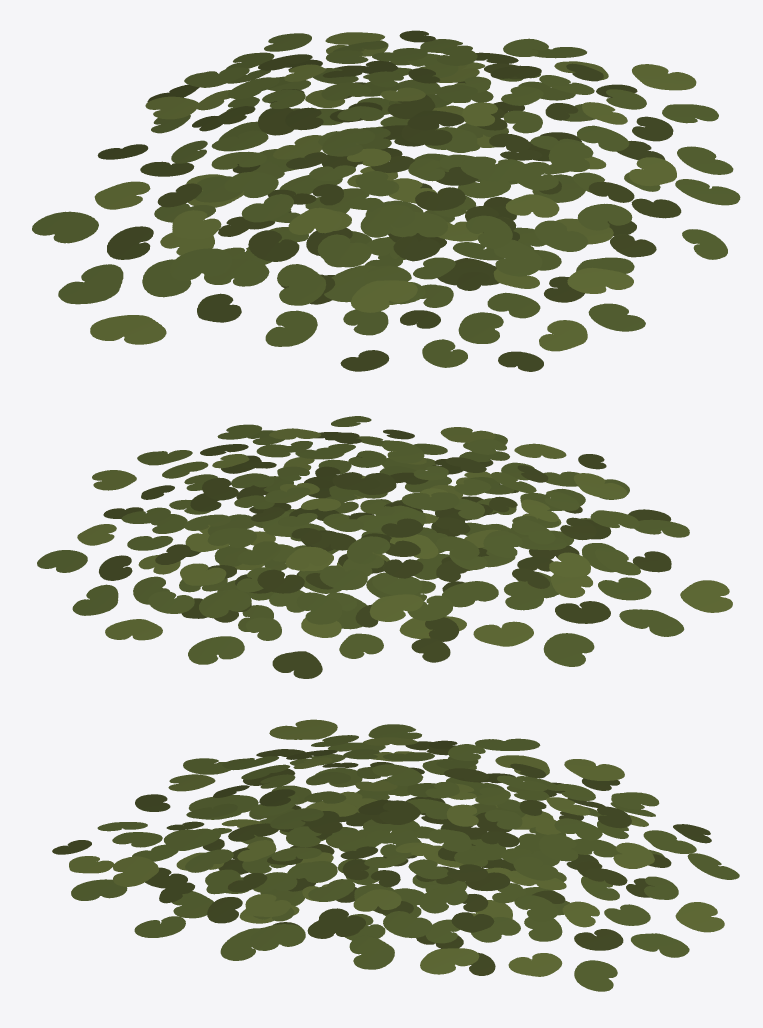
File: Asarabacca_2.fbx
The picture shows the model from 3 angles, top to bottom: view 1: azimuth 30°, elevation 25°; view 2: azimuth 150°, elevation 25°; view 3: azimuth 270°, elevation 25°; orthographic projection. The views are drawn at different scales.
Visible parts, largest first — view 1: Asarabacca_2; view 2: Asarabacca_2; view 3: Asarabacca_2.
Part boxes in pixels (<box>): Asarabacca_2: <box>32,30,740,371</box>; Asarabacca_2: <box>37,416,732,678</box>; Asarabacca_2: <box>52,719,739,991</box>.
Size of the model in its own units: 138 by 17.24 by 137.
Materials: 1 (1 with a texture image).
